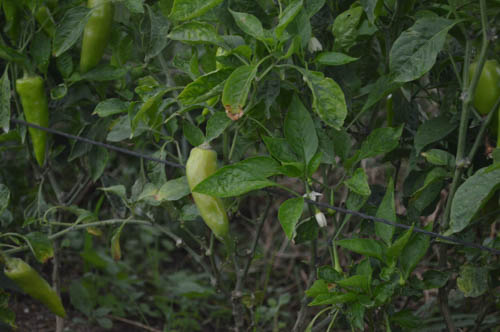ChiliPepper: (185, 148, 227, 240), (9, 264, 70, 317), (17, 78, 52, 158), (74, 5, 108, 71)
